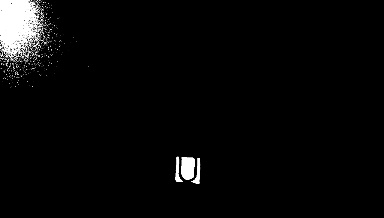U: (176, 157, 200, 182)
